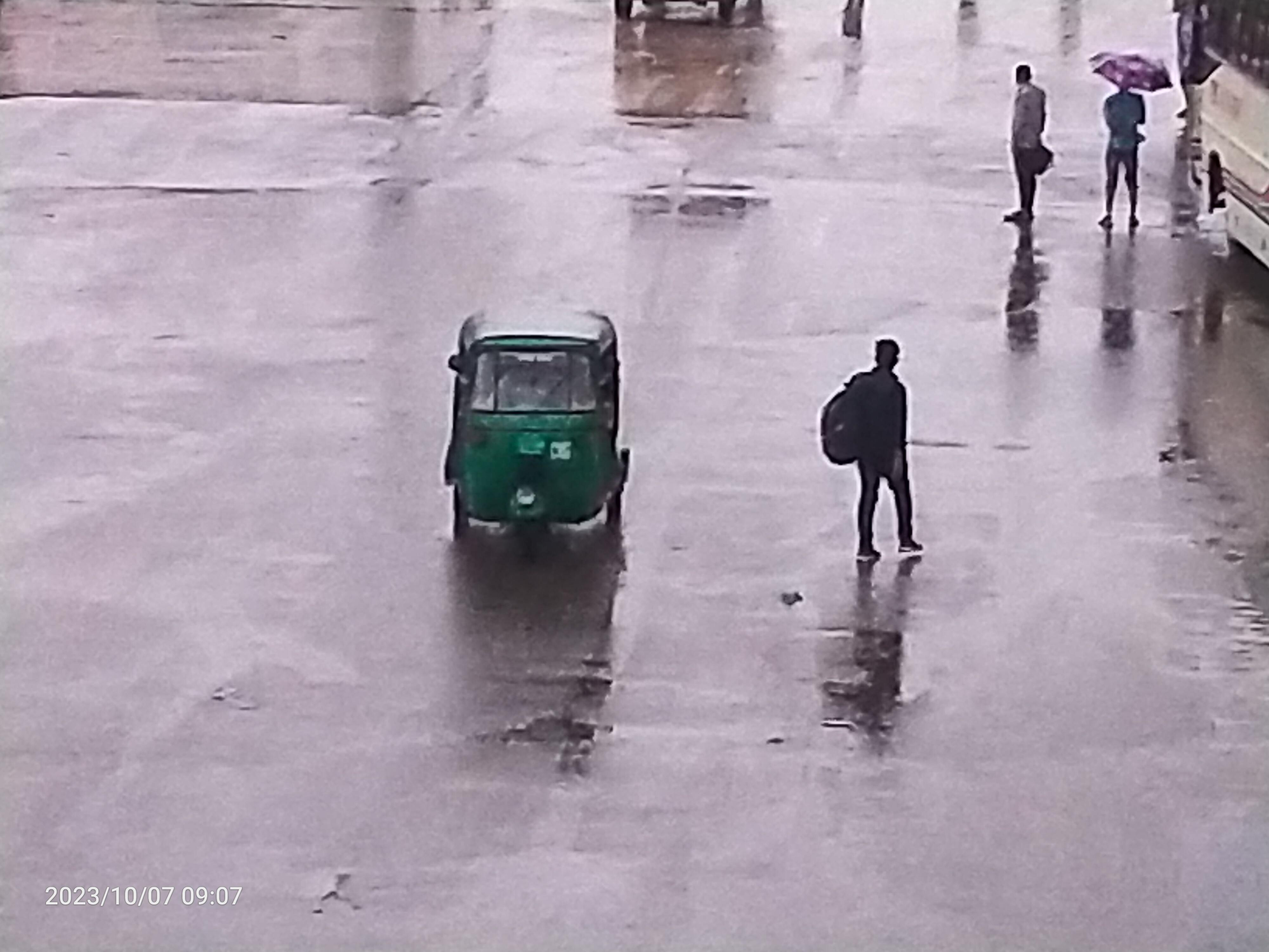Bus: (1128, 0, 1269, 337)
